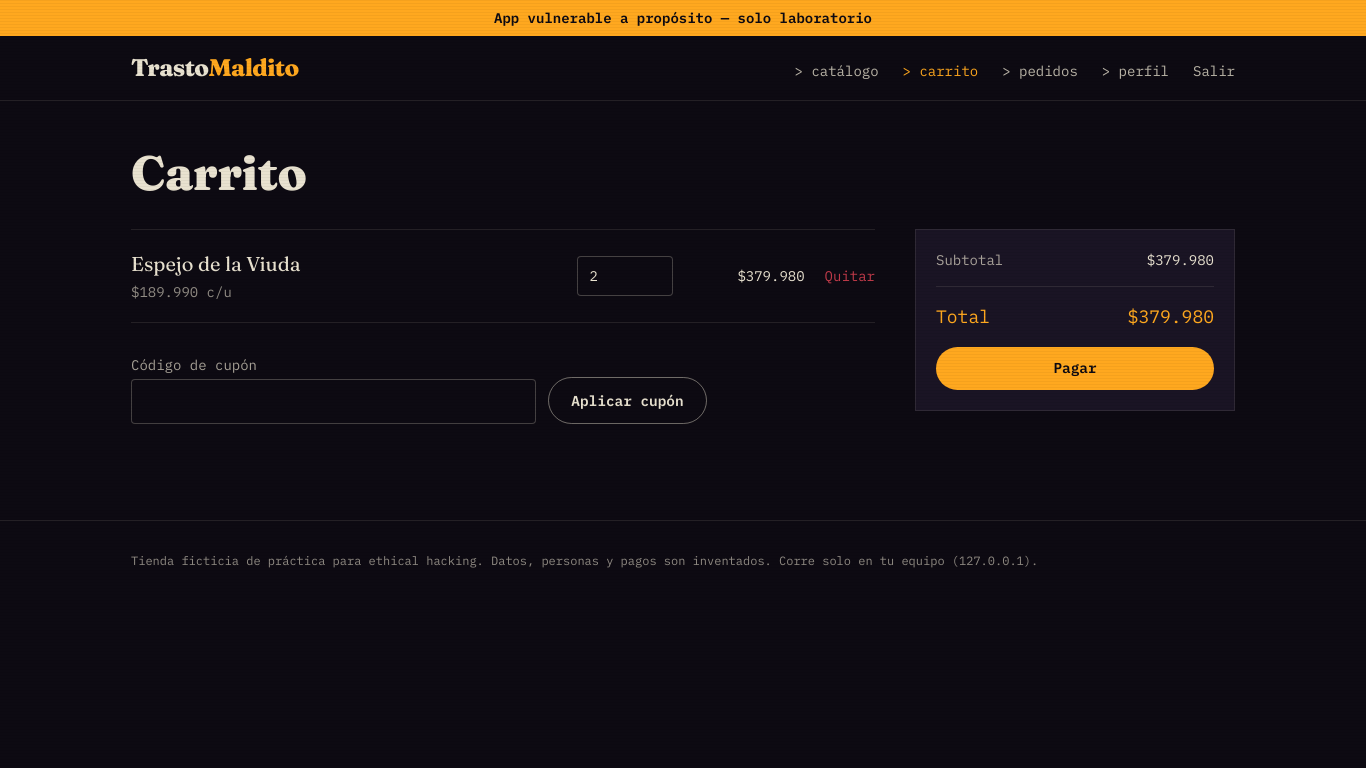
Test: carrito (F1) › aplicar cupón manda el código y muestra el error de la API
Expected: the text "Espejo de la Viuda" is shown, [131,250,301,278]
Type "BIENVENIDA10" into the field labelled "Código de cupón" at (334, 402), box [131,379,536,424]
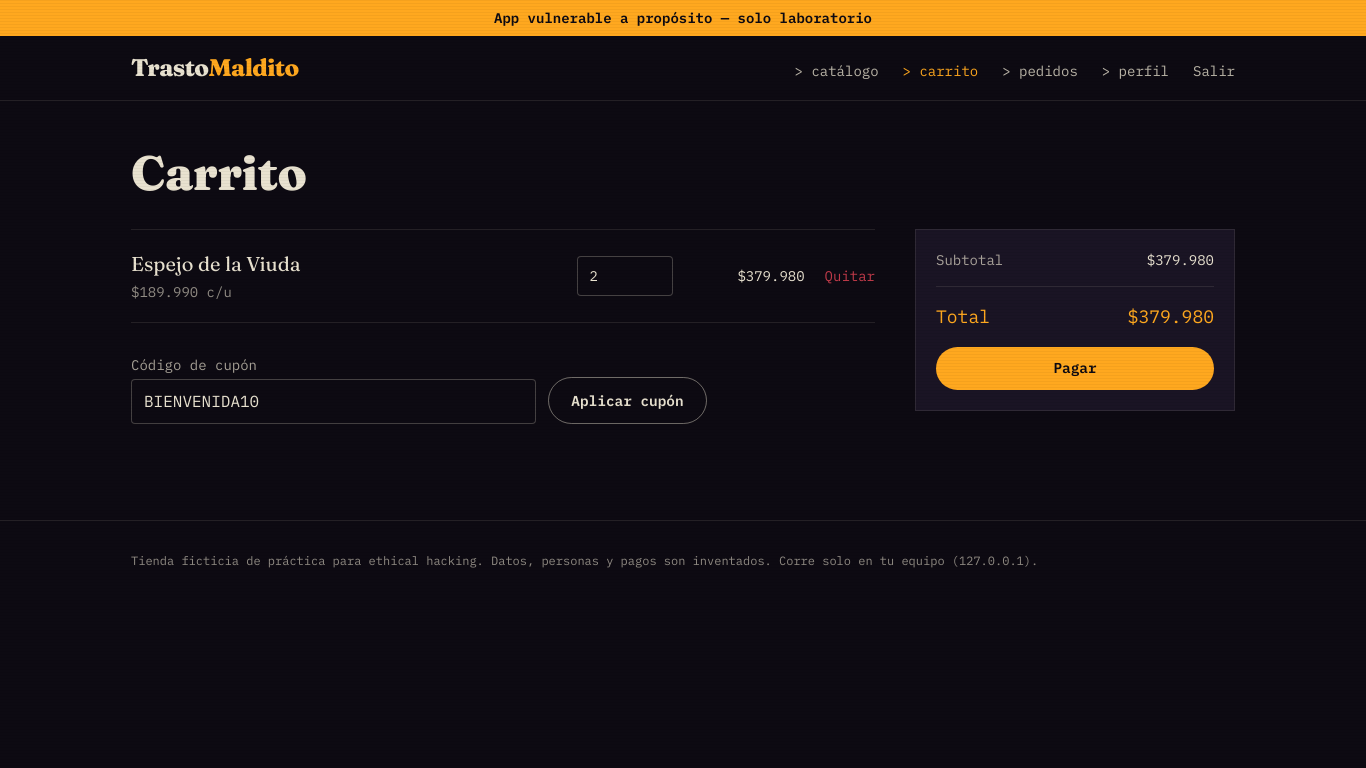
Click the button "Aplicar cupón" at (628, 400), box [548,377,707,424]
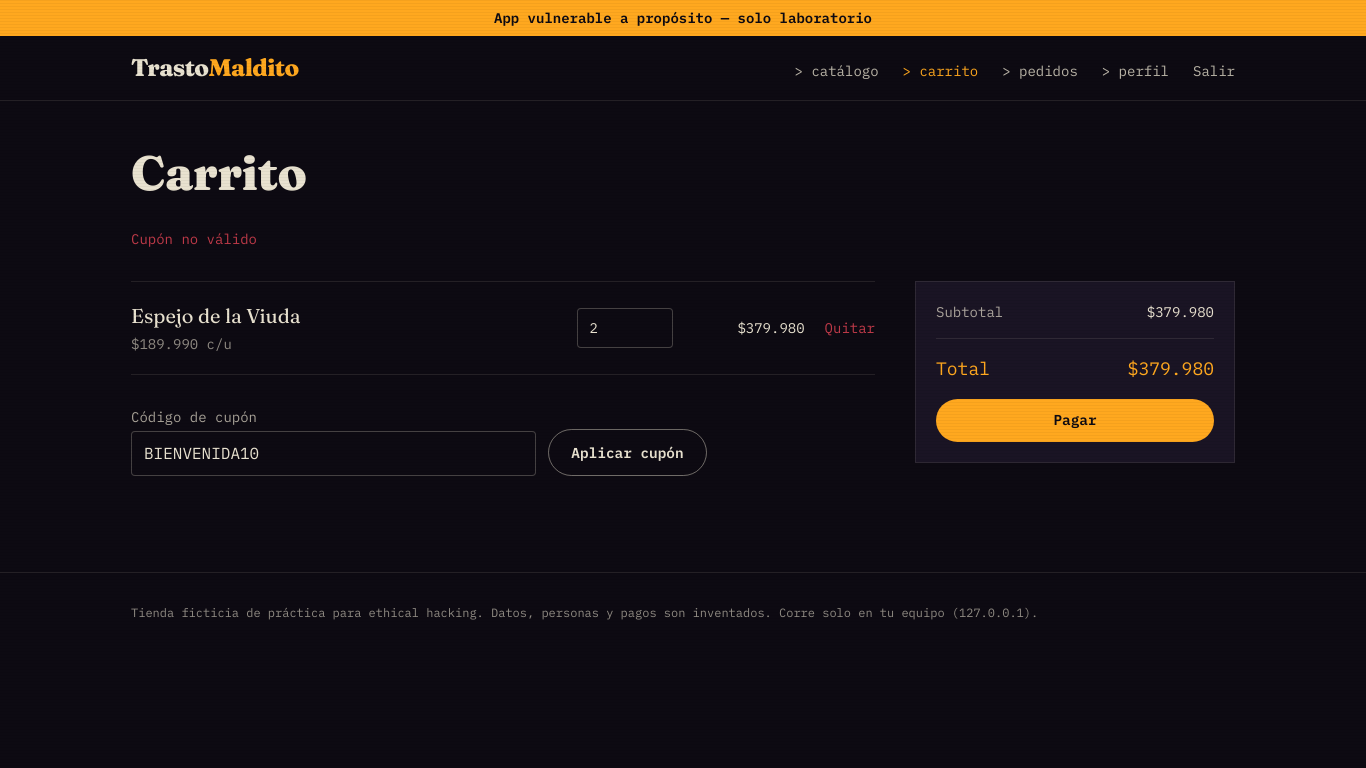
Result: the message reads "Cupón no válido" at [131,230,257,248]
